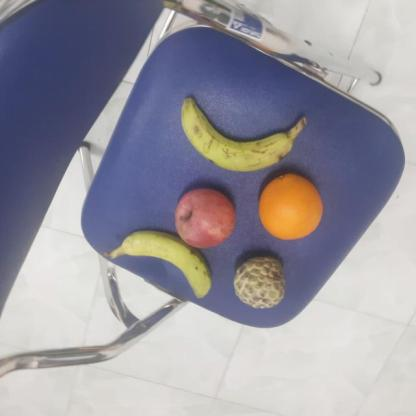annona: (232, 256, 288, 312)
apple: (170, 186, 238, 250)
banana: (179, 96, 294, 174), (120, 229, 217, 307)
orange: (256, 172, 327, 241)
